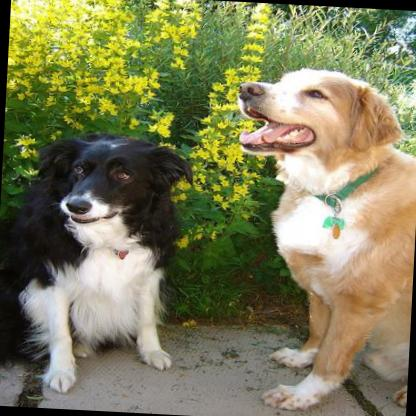Border_collie: (211, 54, 416, 416), (0, 128, 196, 398)
